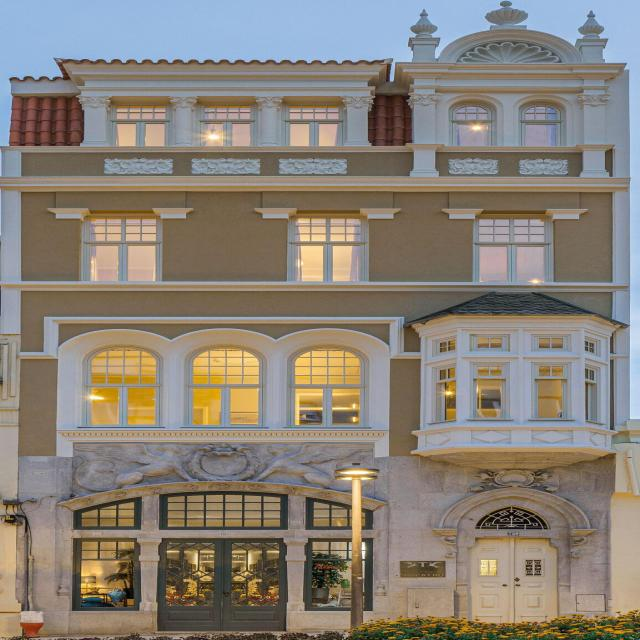door: (152, 536, 289, 634), (464, 541, 553, 626)
window: (70, 487, 364, 532), (82, 345, 159, 430), (284, 348, 364, 429), (186, 346, 262, 430), (473, 220, 551, 283), (69, 539, 136, 611), (82, 218, 156, 282), (310, 540, 371, 612), (291, 220, 359, 283), (111, 105, 164, 147), (286, 105, 338, 147), (200, 105, 248, 147), (532, 365, 566, 419), (447, 106, 488, 148), (473, 365, 501, 418), (520, 107, 553, 147), (434, 367, 453, 422), (581, 368, 594, 423), (532, 338, 561, 350), (473, 338, 500, 350), (435, 340, 452, 354), (580, 342, 591, 355)
